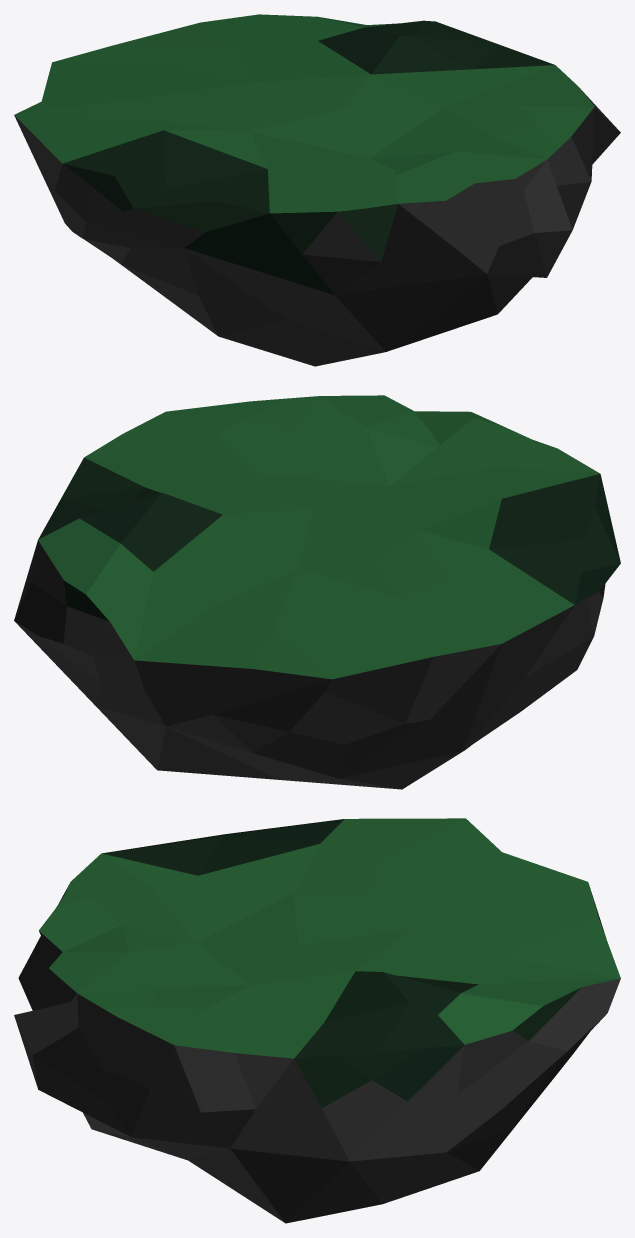
The model's file is Test_Hoehe_Groeße_Hauptinsel.fbx.
3 renders of one model, top to bottom at view 1: azimuth 30°, elevation 25°; view 2: azimuth 150°, elevation 25°; view 3: azimuth 270°, elevation 25°, orthographic. The views are drawn at different scales.
Parts seen in each view (by area): view 1: Icosphere; view 2: Icosphere; view 3: Icosphere.
Boxes of the visible parts, <box> form: Icosphere: <box>14,14,620,366</box>; Icosphere: <box>14,395,620,789</box>; Icosphere: <box>14,818,620,1223</box>.
Size of the model in its own units: 498 by 258 by 506.
